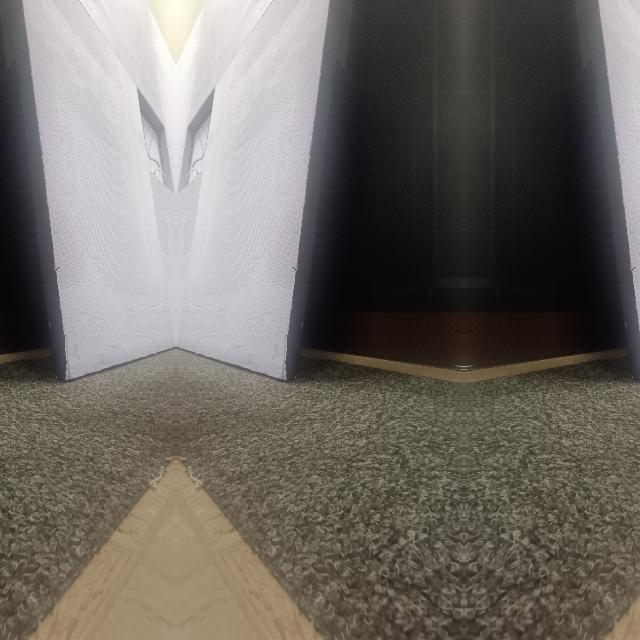obstacle: (19, 48, 172, 378), (178, 48, 330, 378), (597, 48, 640, 378)
